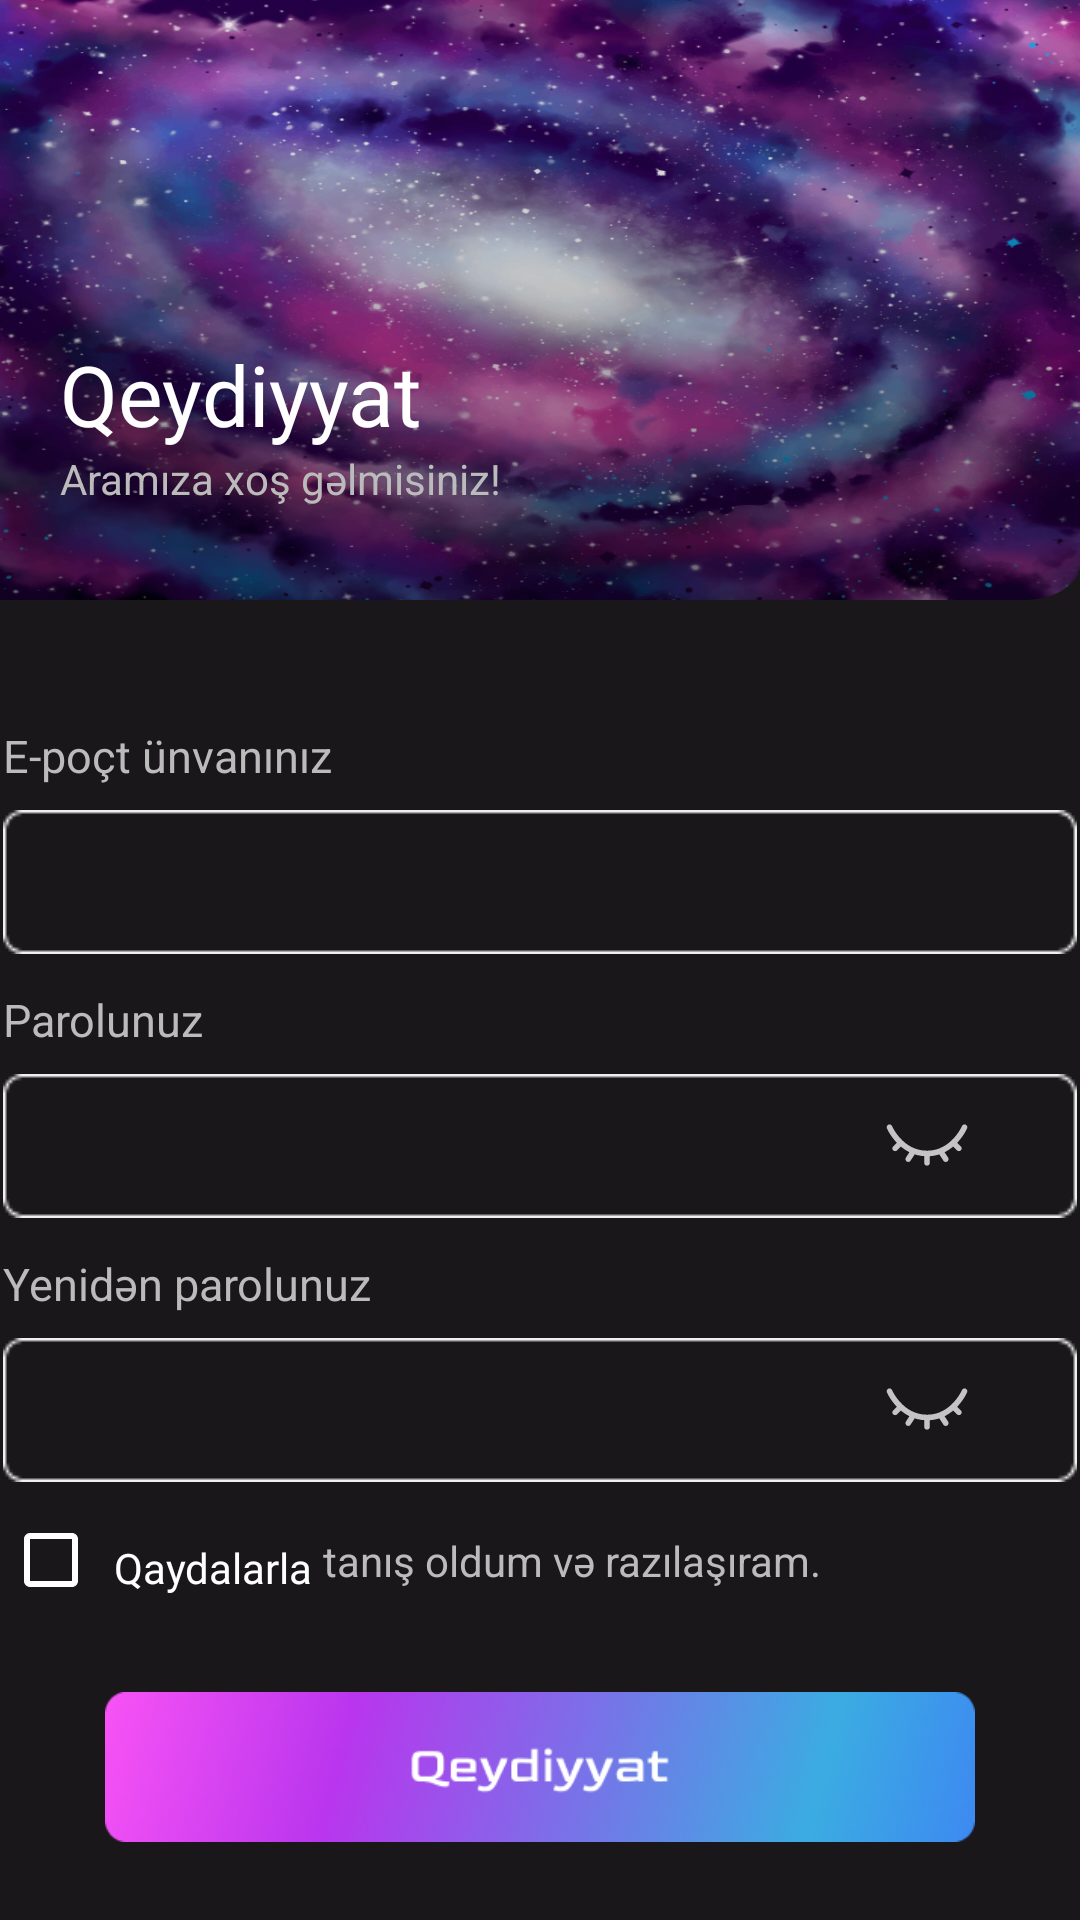

Icon click points for this 1080*1920 phone screenshot, format (x,y):
hide password: (927,1145), (927,1409)
